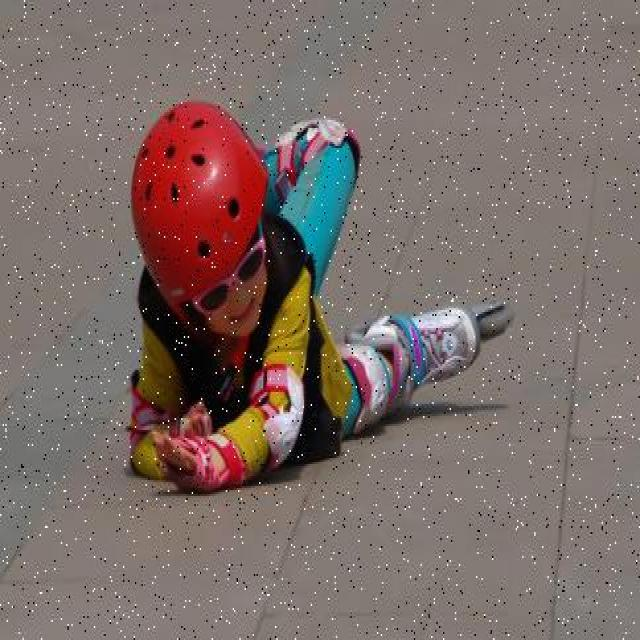fall: (119, 120, 448, 468)
